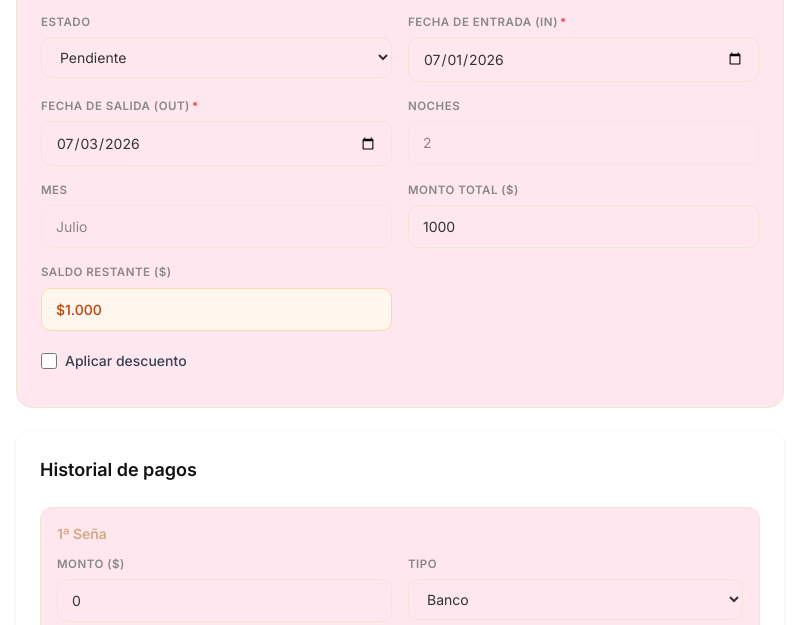
Test: ReservaForm.jsx — descuento en MONTO FIJO al EDITAR una reserva existente (código real) › en edición, corregir un monto inválido a uno válido hace desaparecer el error y aplica el descuento
The width and height of the screenshot is (801, 625).
(page scrolled)
Expected: the number field with test id "input-monto-total" holds "1000", x1=408 y1=205 x2=759 y2=248
Click the text "Aplicar descuento".
click(126, 361)  # box x1=65 y1=351 x2=187 y2=371
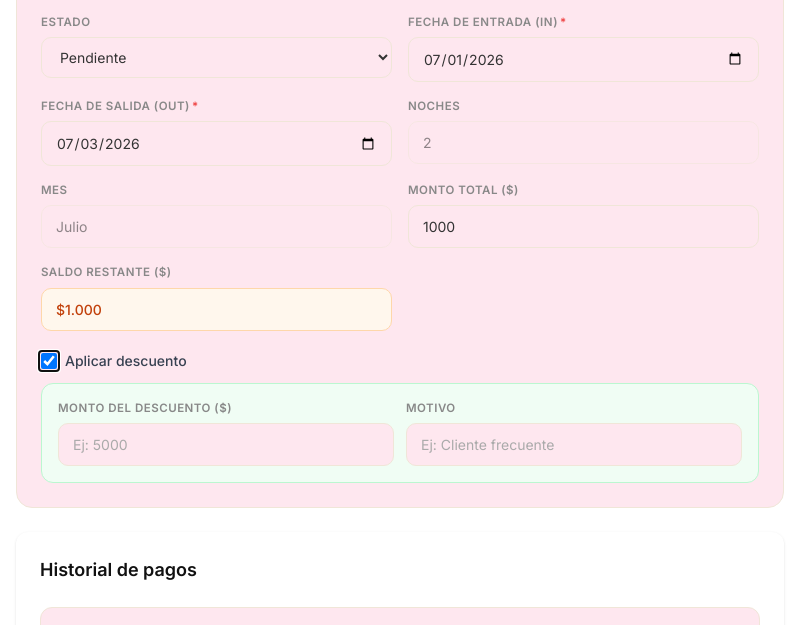
Type "5000" into the number field with test id "input-descuento-monto".
click(226, 444); type("5000")  # box x1=58 y1=423 x2=394 y2=466
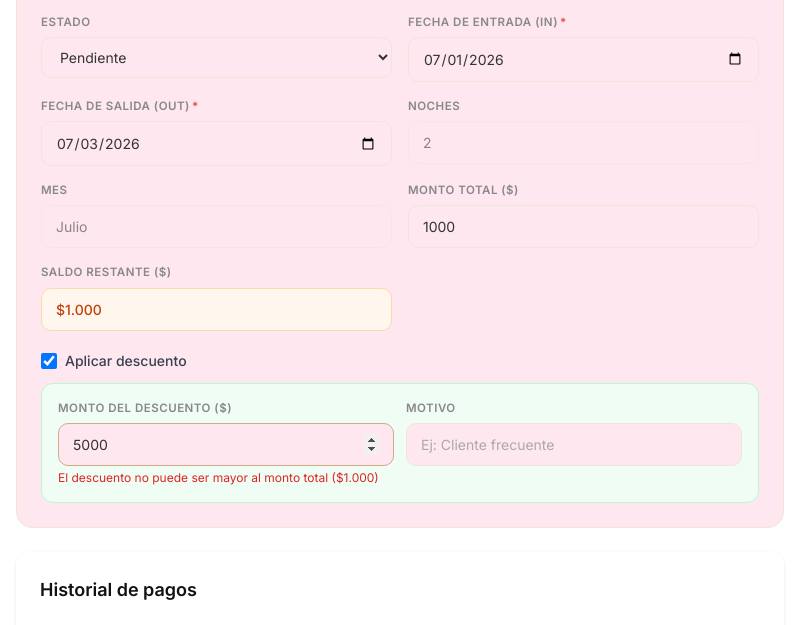
Now the text "El descuento no puede ser mayor al monto total ($1.000)" is shown, box x1=58 y1=470 x2=394 y2=486
Replace the text in the number field with test id "input-descuento-monto" with "1000" at (226, 444), box x1=58 y1=423 x2=394 y2=466
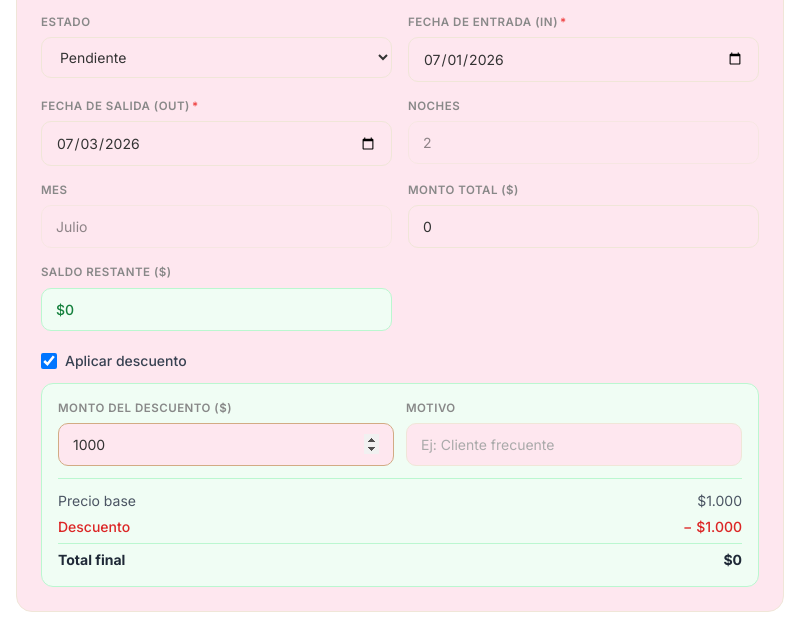
Now the number field with test id "input-monto-total" holds "0", box x1=408 y1=205 x2=759 y2=248
